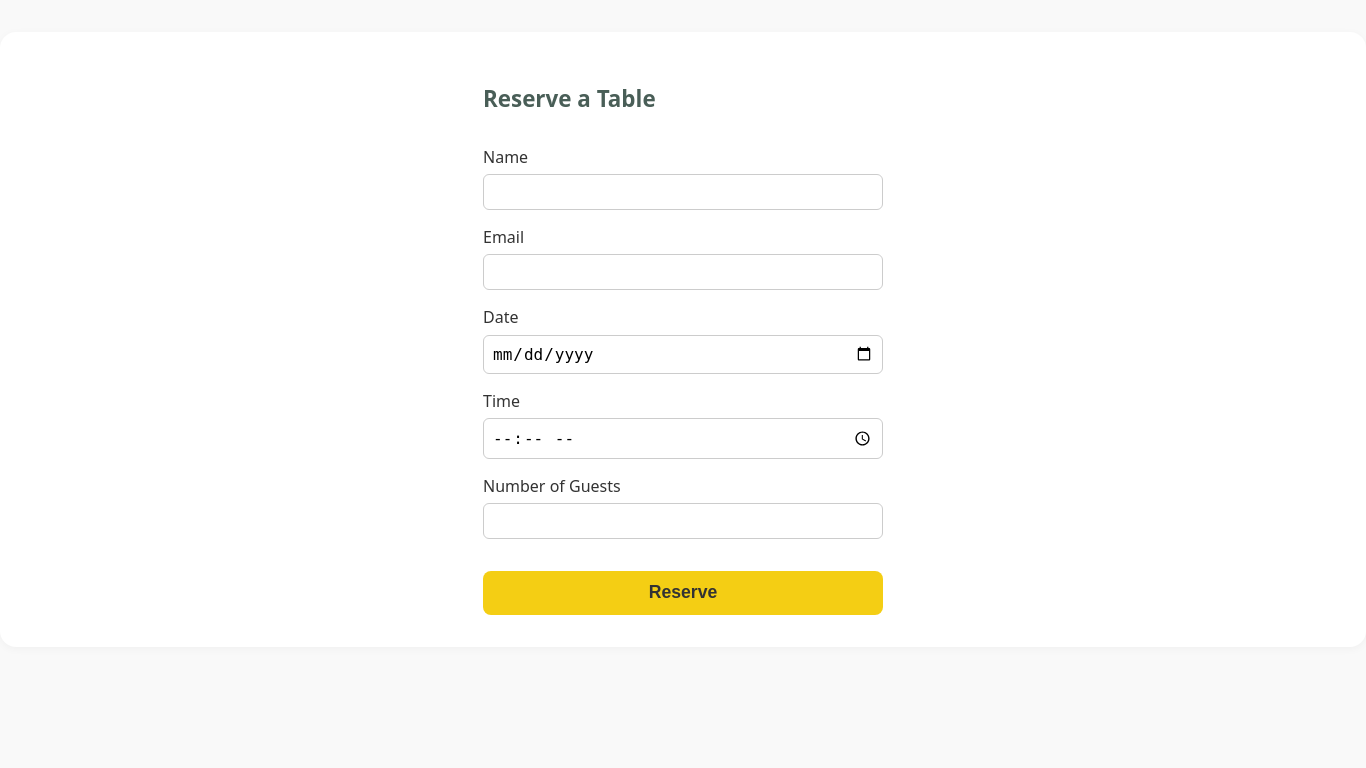
it: ReservationForm › shows validation errors on empty submit
Click the button "Reserve": (683,593) [483,571,883,615]
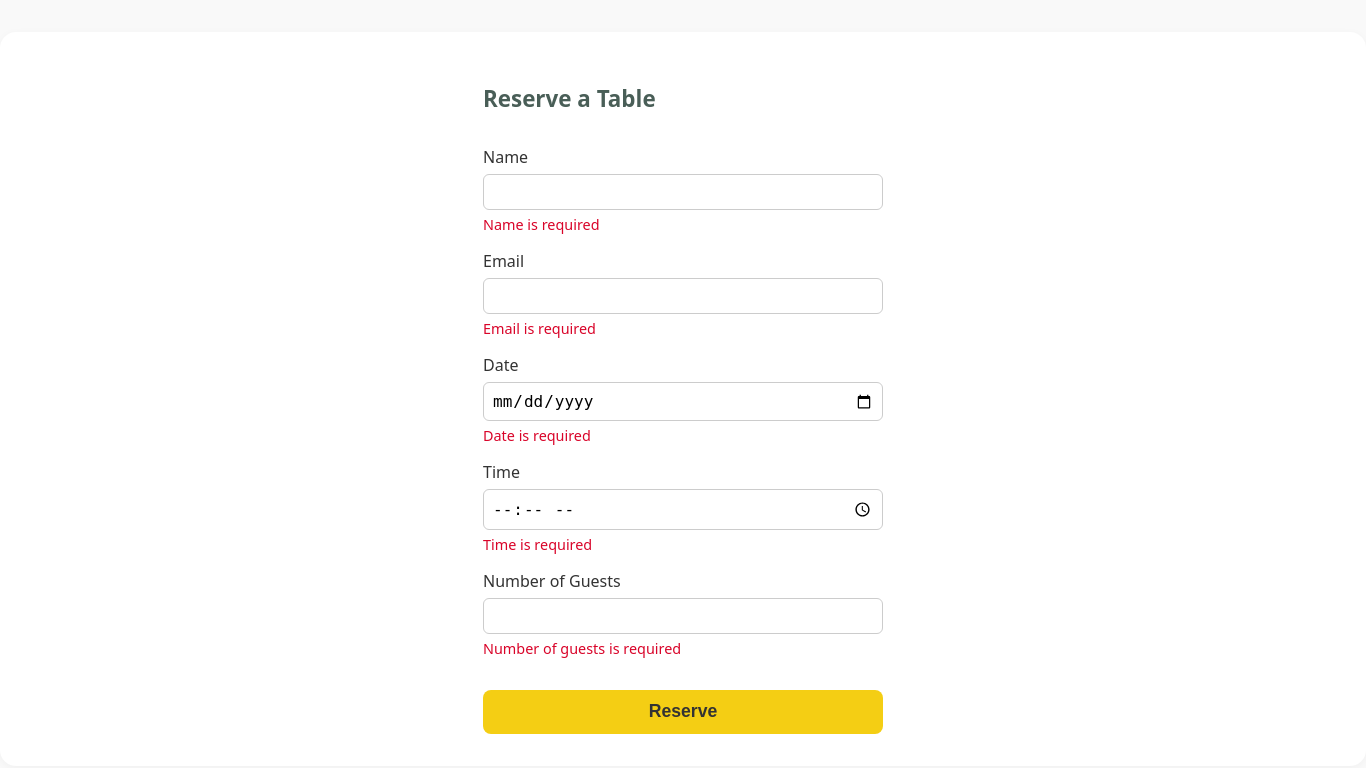
Now the text "Name is required" is shown, box [483,215,600,234]
Now the text "Email is required" is shown, box [483,319,596,338]
